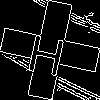H: (25, 25, 70, 77)
